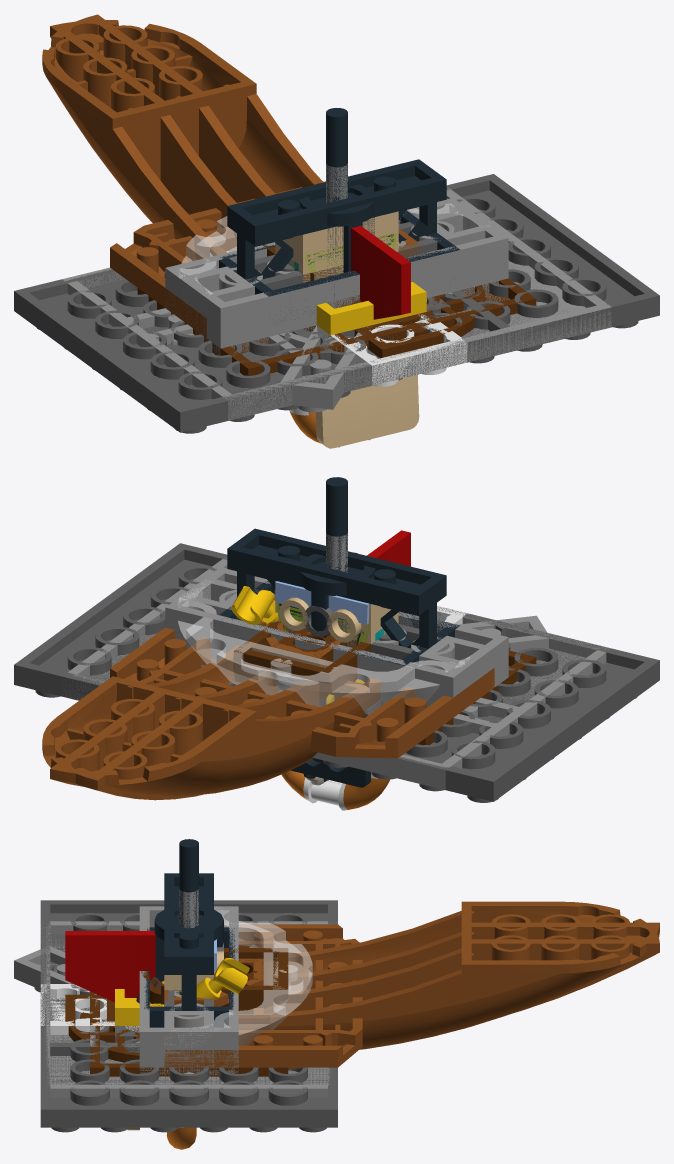
File: parts.glb
The picture shows the model from 3 angles, top to bottom: view 1: azimuth 30°, elevation 25°; view 2: azimuth 150°, elevation 25°; view 3: azimuth 270°, elevation 25°; orthographic projection. The views are drawn at different scales.
Visible parts, largest first — view 1: 3033.dat, 77182.dat, 77180.dat, 2456.dat, 3036.dat, 3185.dat, 52031.dat, 4079.dat, 80324.dat, 15706.dat, 22885.dat, 3032.dat (+13 smaller); view 2: 3033.dat, 77182.dat, 77180.dat, 52031.dat, 2456.dat, 3185.dat, 35299.dat, 3036.dat, 93606.dat, 92950.dat, 22885.dat, 15706.dat (+13 smaller); view 3: 3033.dat, 77180.dat, 77182.dat, 52031.dat, 3036.dat, 2456.dat, 35299.dat, 80324.dat, 3185.dat, 93606.dat, 68568.dat, 78444.dat (+15 smaller).
Part boxes in pixels (bbox=[...]): 3033.dat: bbox=[14, 174, 659, 433]; 77182.dat: bbox=[42, 14, 275, 259]; 77180.dat: bbox=[50, 20, 323, 227]; 2456.dat: bbox=[165, 198, 508, 355]; 3036.dat: bbox=[62, 187, 611, 420]; 3185.dat: bbox=[227, 159, 446, 279]; 52031.dat: bbox=[110, 181, 325, 337]; 4079.dat: bbox=[315, 374, 419, 448]; 80324.dat: bbox=[351, 225, 410, 319]; 15706.dat: bbox=[117, 308, 371, 412]; 22885.dat: bbox=[275, 211, 398, 282]; 3032.dat: bbox=[137, 278, 536, 375]; 3033.dat: bbox=[14, 543, 659, 802]; 77182.dat: bbox=[50, 670, 381, 796]; 77180.dat: bbox=[42, 645, 319, 800]; 52031.dat: bbox=[110, 627, 494, 758]; 2456.dat: bbox=[165, 567, 508, 707]; 3185.dat: bbox=[227, 528, 446, 648]; 35299.dat: bbox=[178, 580, 470, 714]; 3036.dat: bbox=[62, 558, 611, 789]; 93606.dat: bbox=[233, 621, 370, 685]; 92950.dat: bbox=[179, 577, 494, 683]; 22885.dat: bbox=[275, 580, 398, 646]; 15706.dat: bbox=[453, 615, 548, 733]; 3033.dat: bbox=[40, 900, 337, 1132]; 77180.dat: bbox=[238, 922, 659, 1049]; 77182.dat: bbox=[263, 901, 659, 1013]; 52031.dat: bbox=[164, 924, 362, 1069]; 3036.dat: bbox=[41, 921, 336, 1097]; 2456.dat: bbox=[139, 906, 238, 1076]; 35299.dat: bbox=[164, 907, 312, 1069]; 80324.dat: bbox=[65, 931, 155, 1002]; 3185.dat: bbox=[164, 873, 213, 1010]; 93606.dat: bbox=[90, 948, 288, 1031]; 68568.dat: bbox=[65, 994, 139, 1062]; 78444.dat: bbox=[40, 984, 139, 1034].
Bounding box in the file's own units: 200 × 131 × 261.
